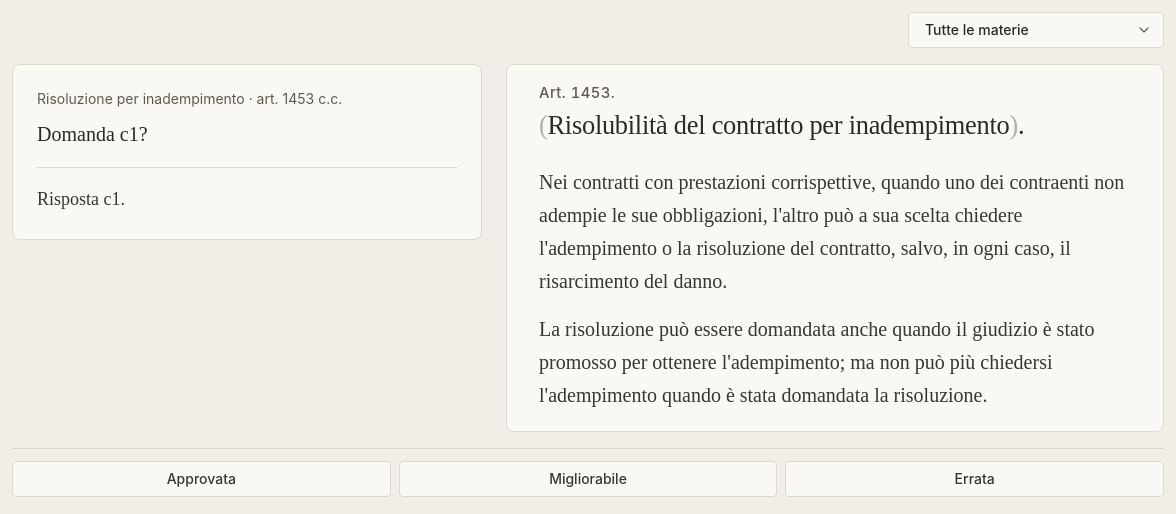
«Da validare», the subject filter › offers all subjects and the five, and reads the queue of the one chosen
Expected: the text "Domanda c1?" is shown, [37,123,148,145]
Select "Diritto penale" in the dropdown named "Materia": (1036, 30) [908,12,1164,48]
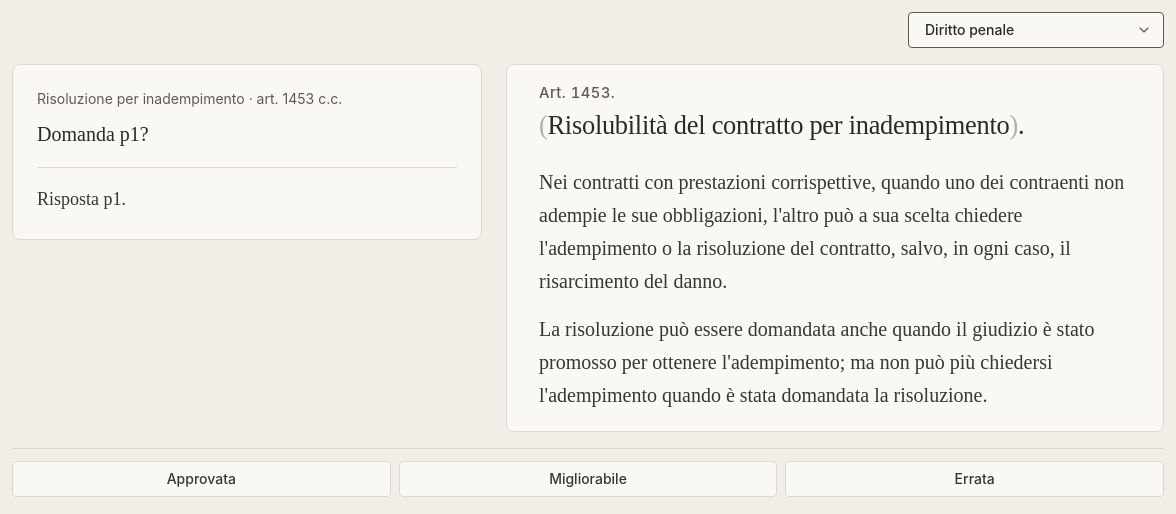
Now the text "Domanda p1?" is shown, box [37,123,149,145]
Now the text "Domanda c1?" is gone
